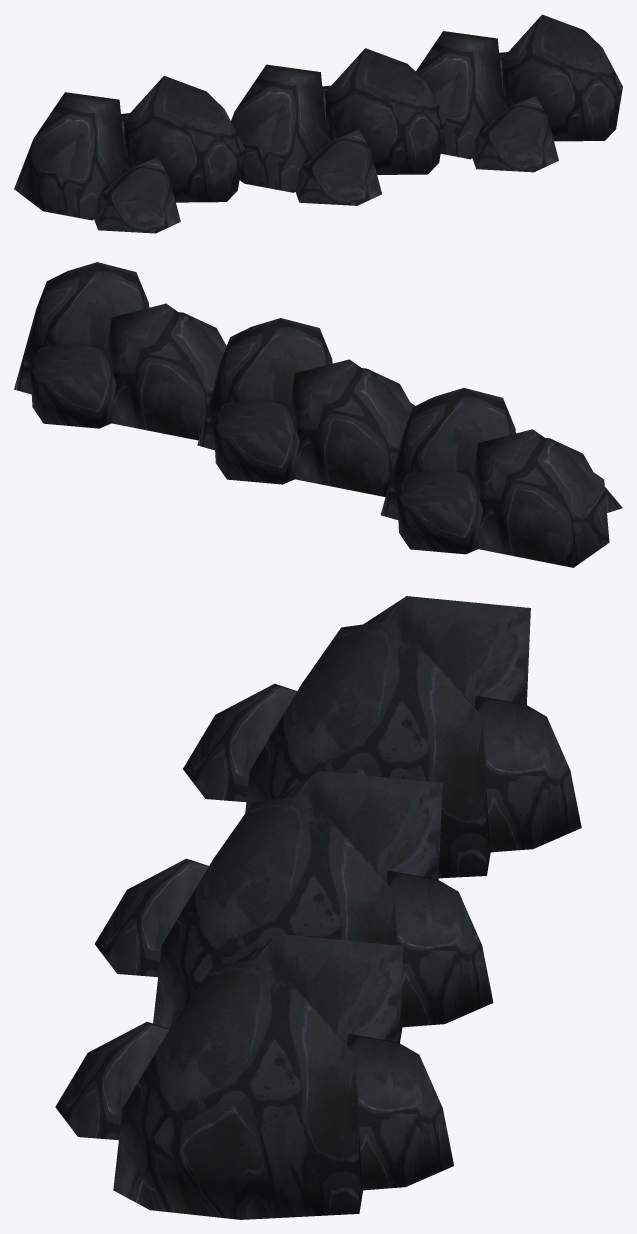
Rendered from MoreWatrAndRocks.gltf.
3 views of the same model, one above another, from view 1: azimuth 30°, elevation 25°; view 2: azimuth 150°, elevation 25°; view 3: azimuth 270°, elevation 25° (orthographic). The views are drawn at different scales.
Parts seen in each view (by area): view 1: P_PROP_debris_stones_dungeon_04 (19), P_PROP_debris_stones_dungeon_04 (18), P_PROP_debris_stones_dungeon_04 (17); view 2: P_PROP_debris_stones_dungeon_04 (19), P_PROP_debris_stones_dungeon_04 (18), P_PROP_debris_stones_dungeon_04 (17); view 3: P_PROP_debris_stones_dungeon_04 (17), P_PROP_debris_stones_dungeon_04 (19), P_PROP_debris_stones_dungeon_04 (18).
Part boxes in pixels (x1,y1,x2,y2): P_PROP_debris_stones_dungeon_04 (19): (14,75,244,233); P_PROP_debris_stones_dungeon_04 (18): (231,48,445,205); P_PROP_debris_stones_dungeon_04 (17): (416,14,622,172); P_PROP_debris_stones_dungeon_04 (19): (380,388,622,567); P_PROP_debris_stones_dungeon_04 (18): (197,318,414,496); P_PROP_debris_stones_dungeon_04 (17): (14,262,226,440); P_PROP_debris_stones_dungeon_04 (17): (55,934,453,1219); P_PROP_debris_stones_dungeon_04 (19): (183,596,581,878); P_PROP_debris_stones_dungeon_04 (18): (95,771,493,1043).
Size of what is drawn, in the model's own units: 5.77 by 1.09 by 2.51.
1 material, 1 textured.
